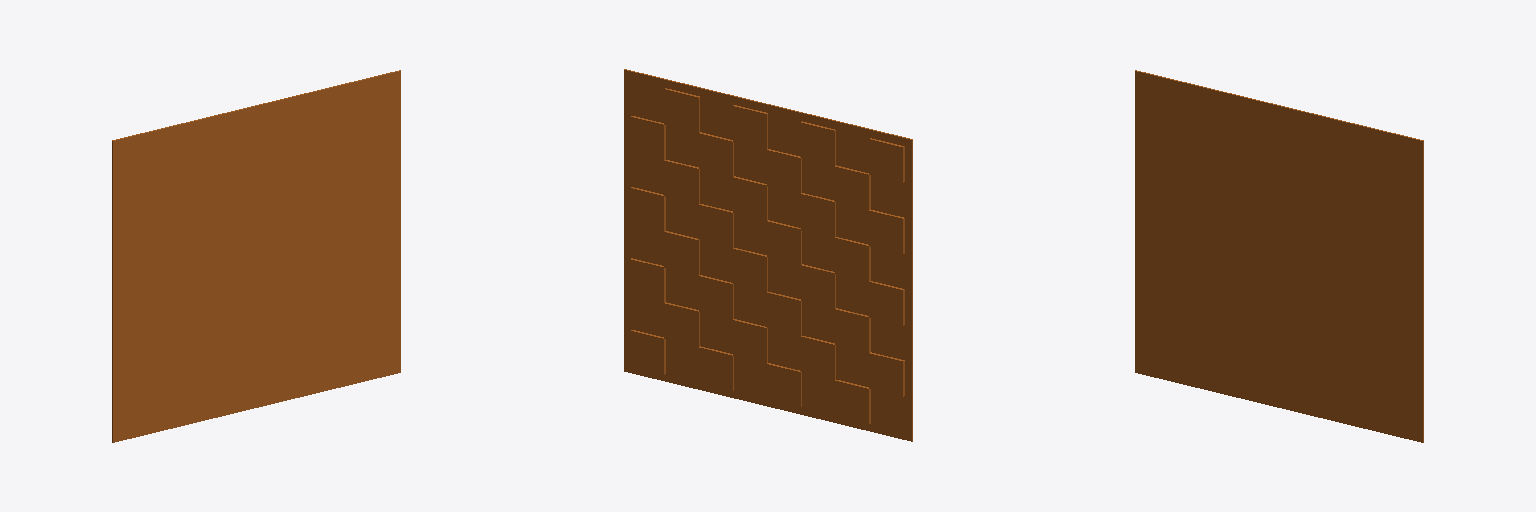
Rendered from board.obj.
The picture shows the model from 3 angles: view 1: azimuth 30°, elevation 25°; view 2: azimuth 150°, elevation 25°; view 3: azimuth 330°, elevation 25°; orthographic projection.
Visible parts, largest first — view 1: Plane_Plane.002; view 2: Plane_Plane.002; view 3: Plane_Plane.002.
Part boxes in pixels (bbox=[...]): Plane_Plane.002: bbox=[112, 70, 400, 442]; Plane_Plane.002: bbox=[624, 69, 912, 441]; Plane_Plane.002: bbox=[1135, 70, 1423, 442].
Size of the model in its own units: 0.3384 by 0.3384 by 0.005.